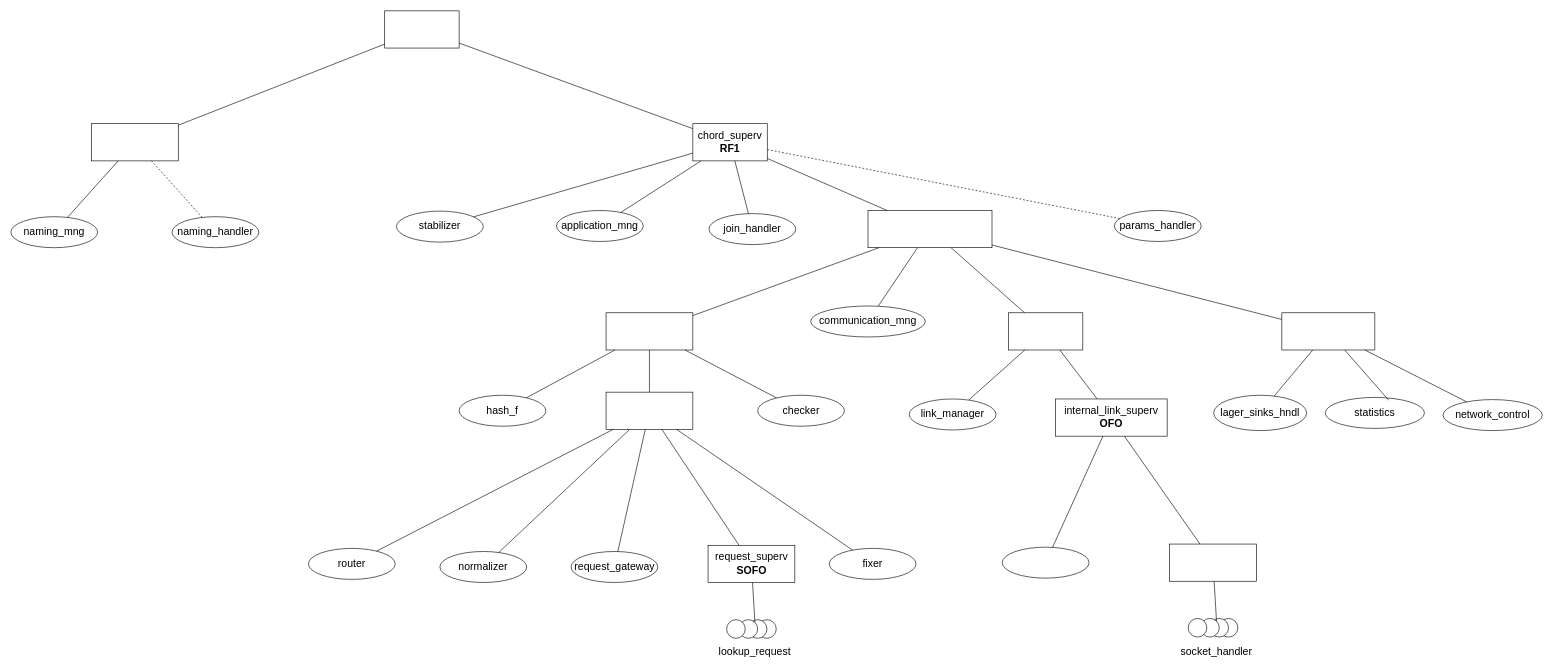
This 1553x669 diagram has some shape labels left out. The centre of each missing label's shape, as x and y in pixels:
add_on_superv OFO: the point at 1328,331
communication_superv OFO: the point at 929,229
f_table_superv RF1: the point at 649,410
handler_superv SOFO: the point at 1212,562
link_superv RF1: the point at 1045,331
naming_superv OFO: the point at 134,142
root_superv OFA: the point at 421,29
routing_superv OFO: the point at 649,331
socket_listener: the point at 1045,562
